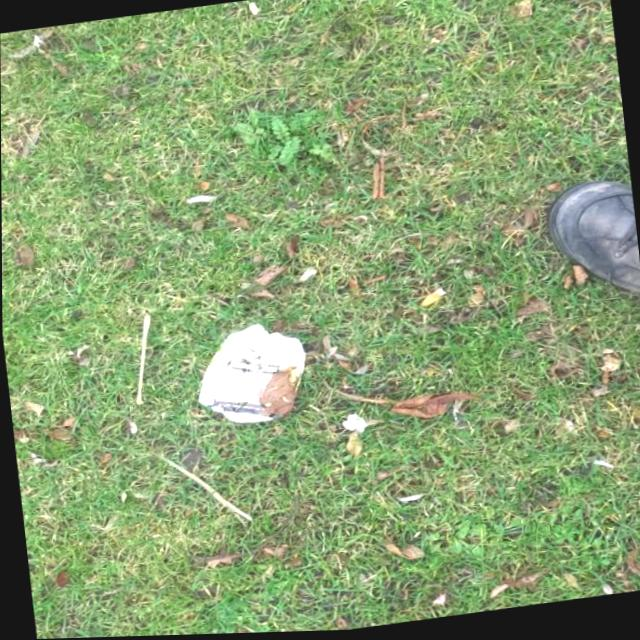Can-Metal: (191, 316, 309, 432)
